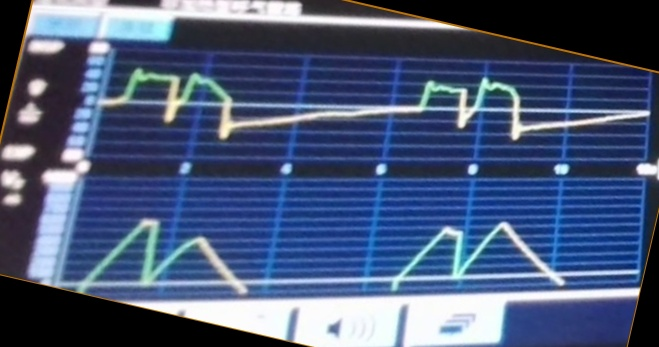Double_Triggering Flow: (109, 63, 576, 147)
Double_Triggering Volume: (74, 208, 565, 290)
